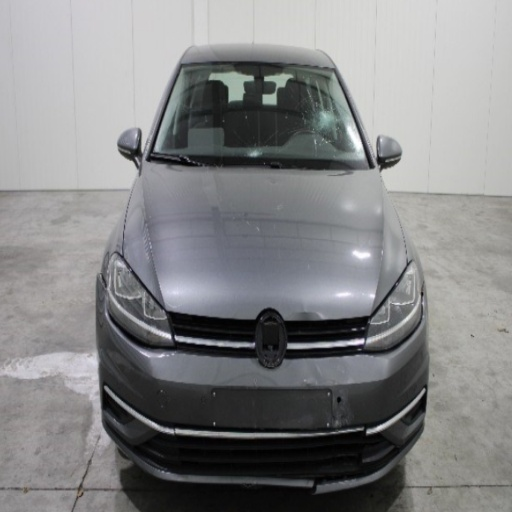dent: (218, 370, 283, 394), (290, 311, 327, 320), (266, 175, 281, 186)
scratch: (302, 357, 352, 393), (332, 389, 354, 433)
